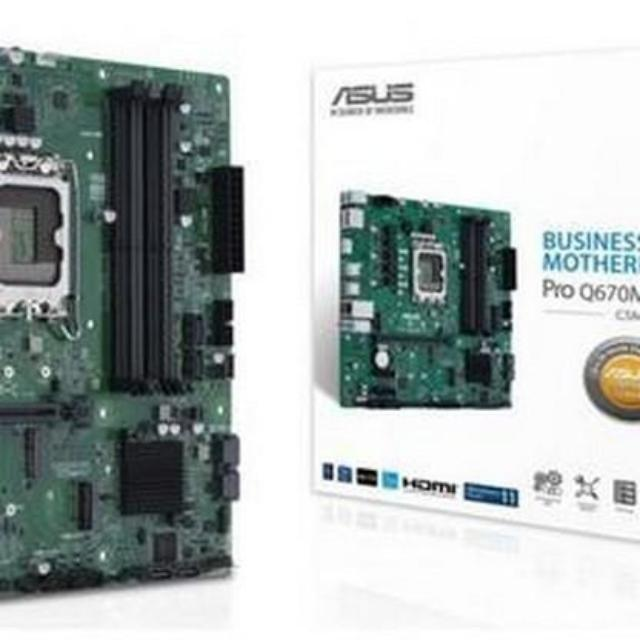Mainboard: (0, 47, 238, 616), (339, 172, 524, 426)
